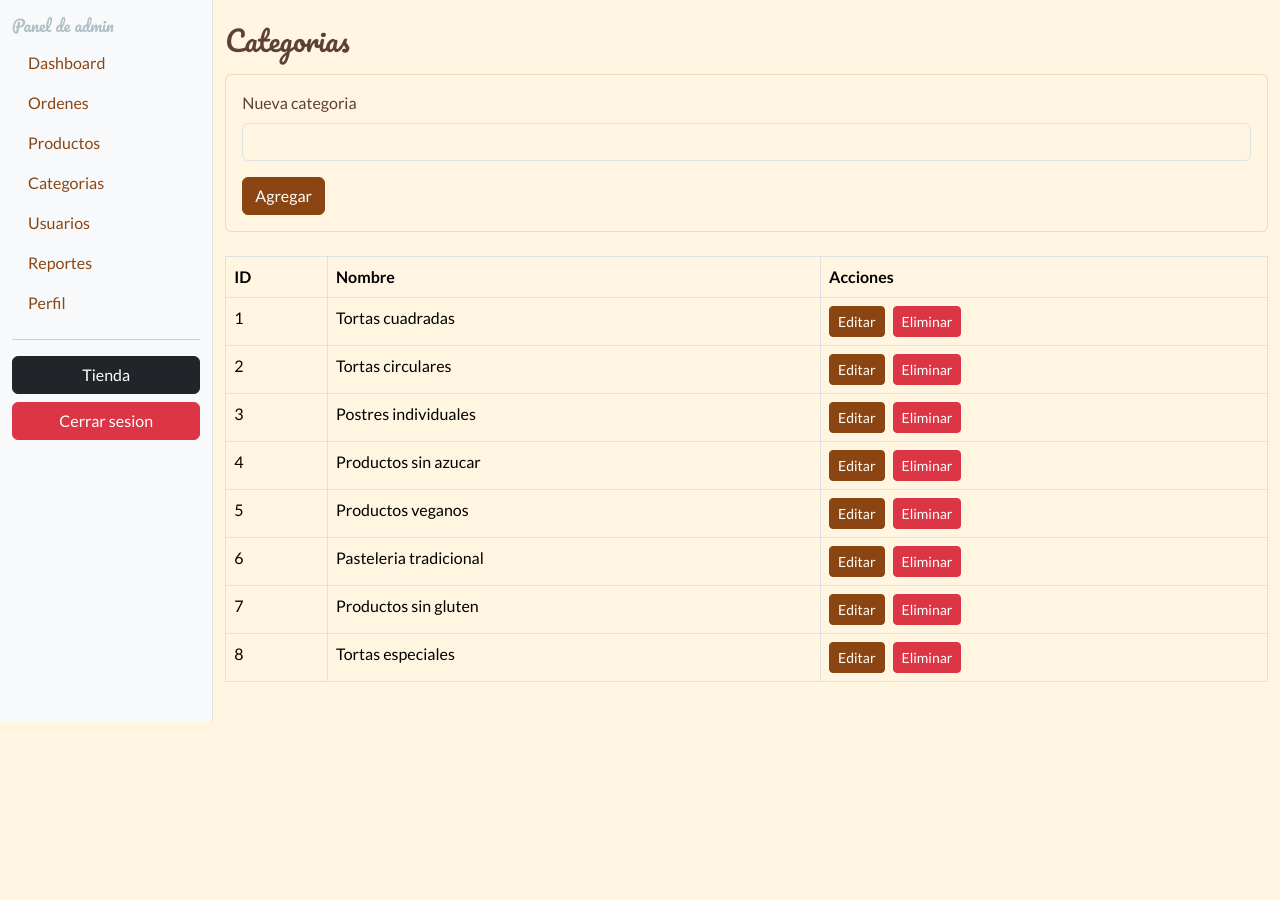
Test: Panel de admin › agrega una categoria nueva a la lista
In the field labelled "Nueva categoria": (747, 142) [242, 123, 1251, 161], type "Alfajores"
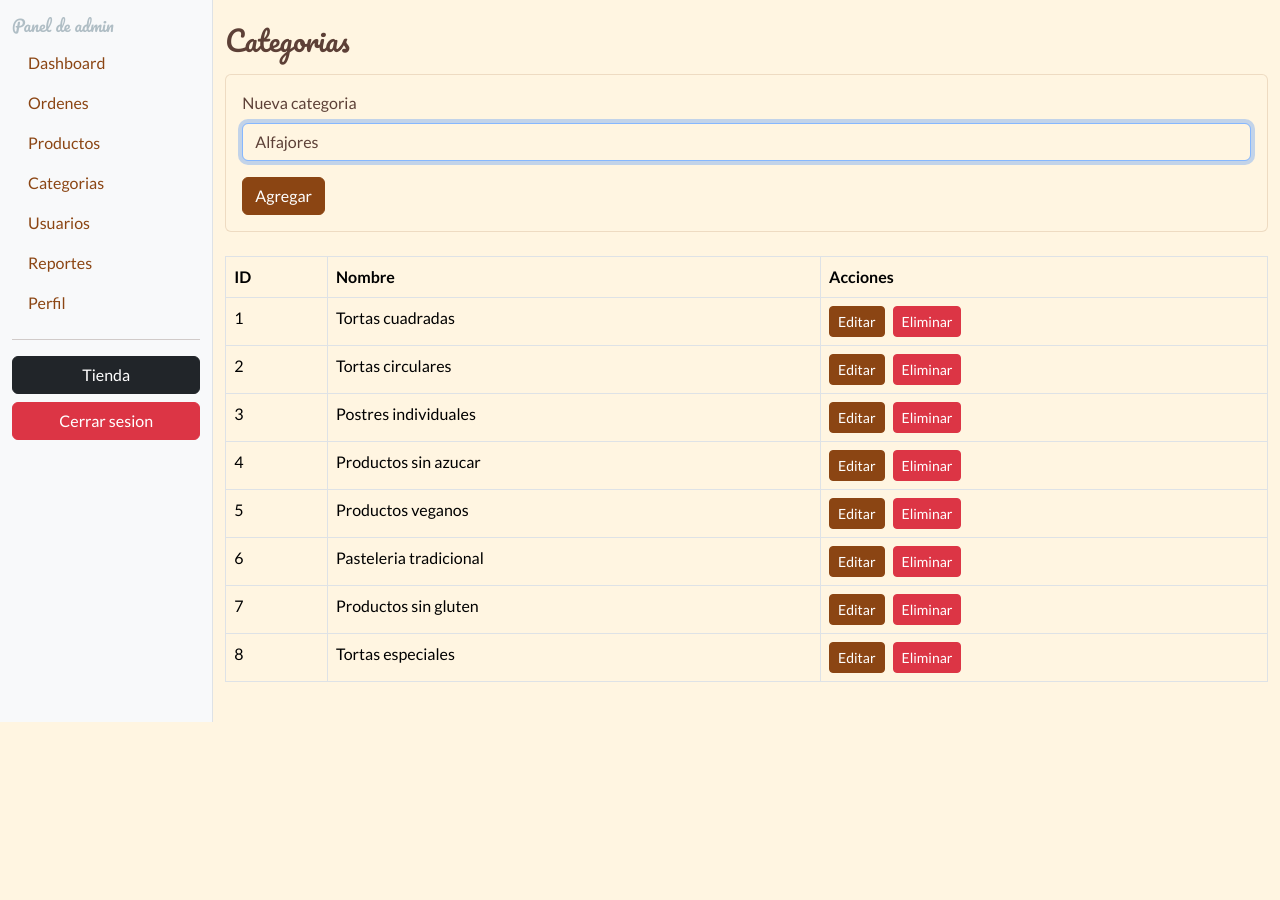
Click the button "Agregar": (284, 196) [242, 177, 325, 215]
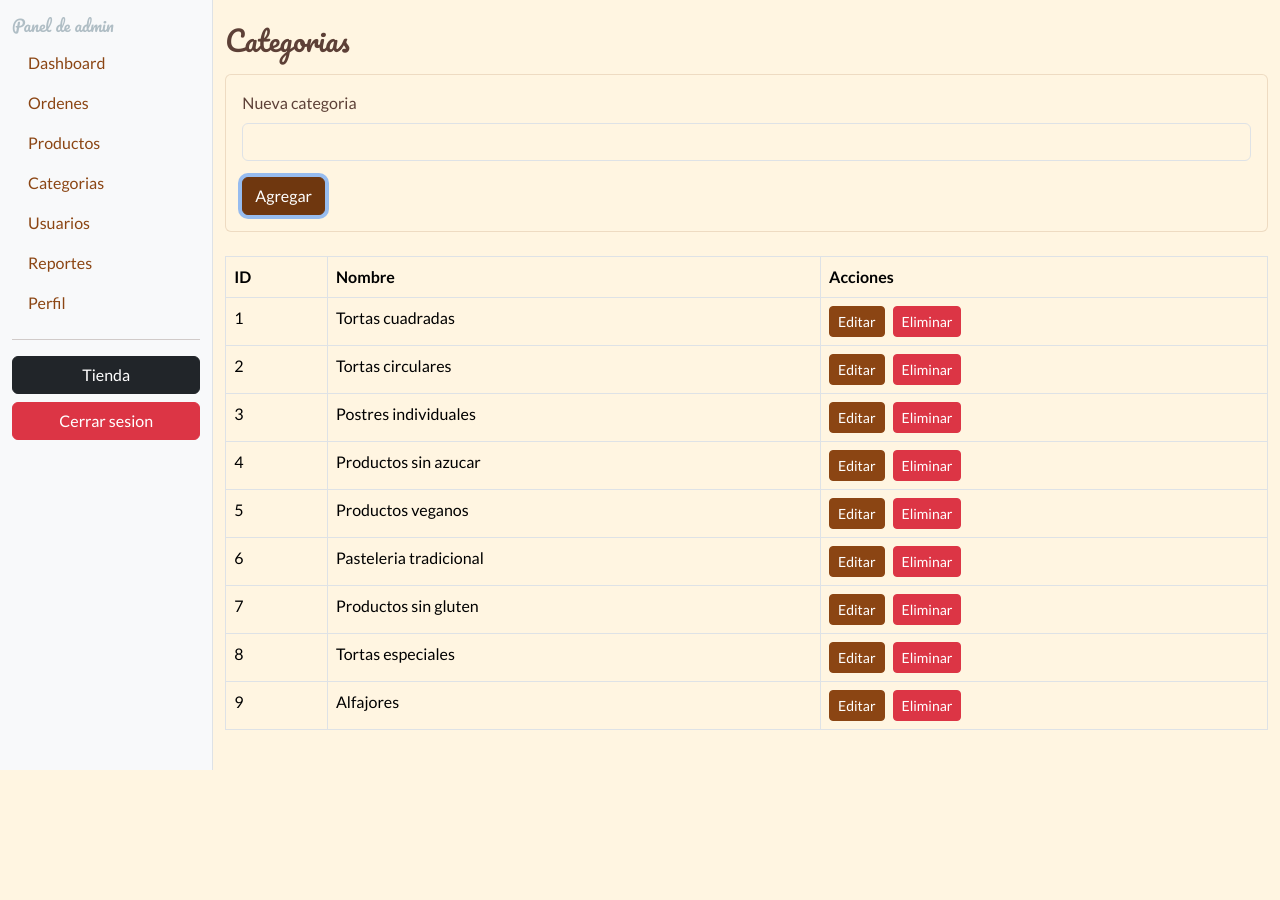
Check: the text "Alfajores" is shown, box [328, 681, 821, 729]
